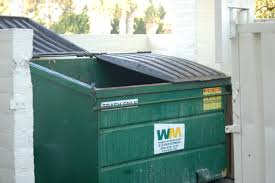Dumpster: (1, 16, 233, 181)
